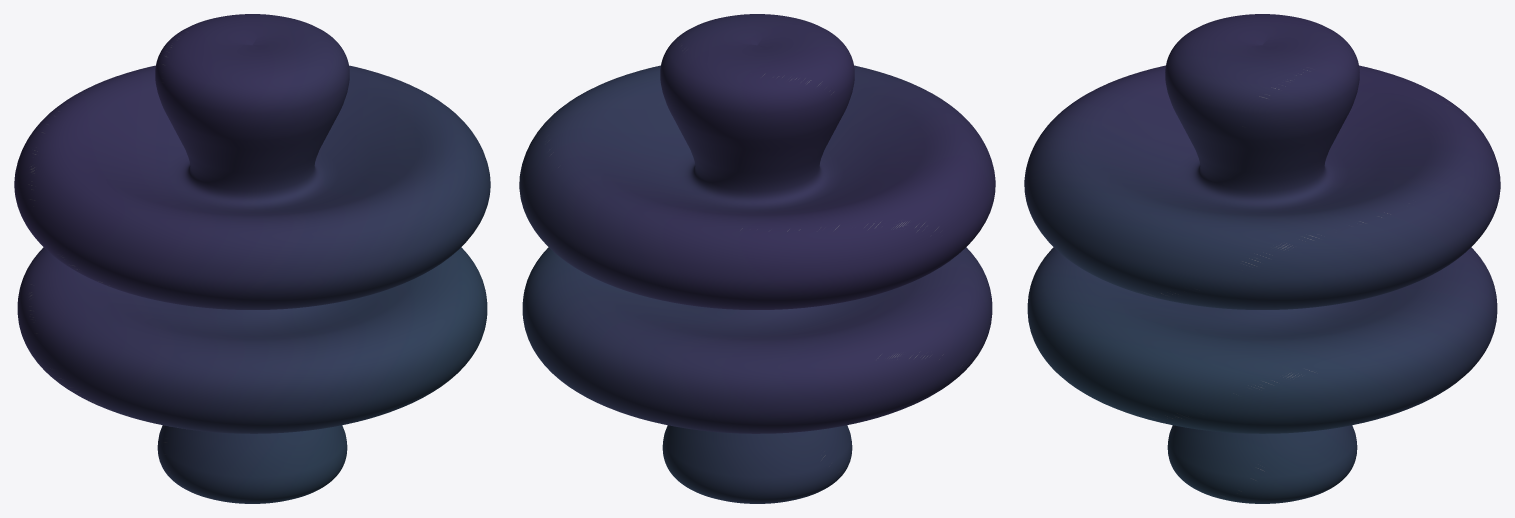
The model's file is 03_swirlnut_inactive.glb.
The picture shows the model from 3 angles, left to right: view 1: azimuth 30°, elevation 25°; view 2: azimuth 150°, elevation 25°; view 3: azimuth 270°, elevation 25°; orthographic projection.
Parts seen in each view (by area): view 1: 03_swirlnut.3; view 2: 03_swirlnut.3; view 3: 03_swirlnut.3.
Part boxes in pixels (left/top/right/bottom): 03_swirlnut.3: left=14, top=14, right=490, bottom=503; 03_swirlnut.3: left=519, top=14, right=995, bottom=503; 03_swirlnut.3: left=1024, top=14, right=1500, bottom=503.
Bounding box in the file's own units: 0.1251 × 0.1258 × 0.1251.
Materials: 1 (1 with a texture image).
